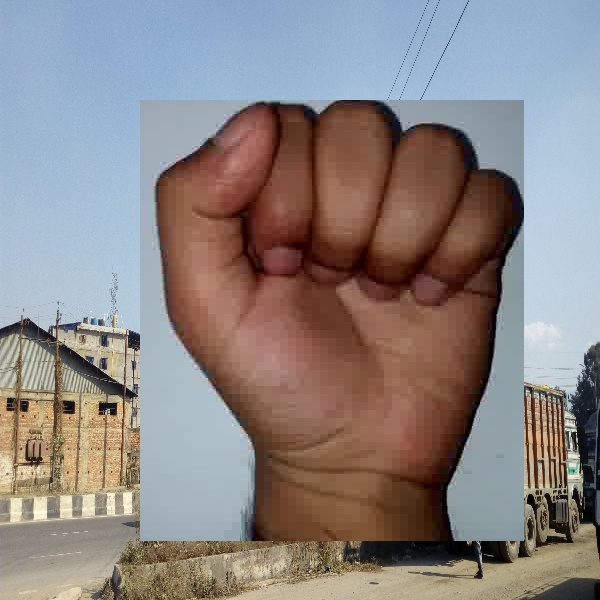A: (140, 100, 524, 541)
